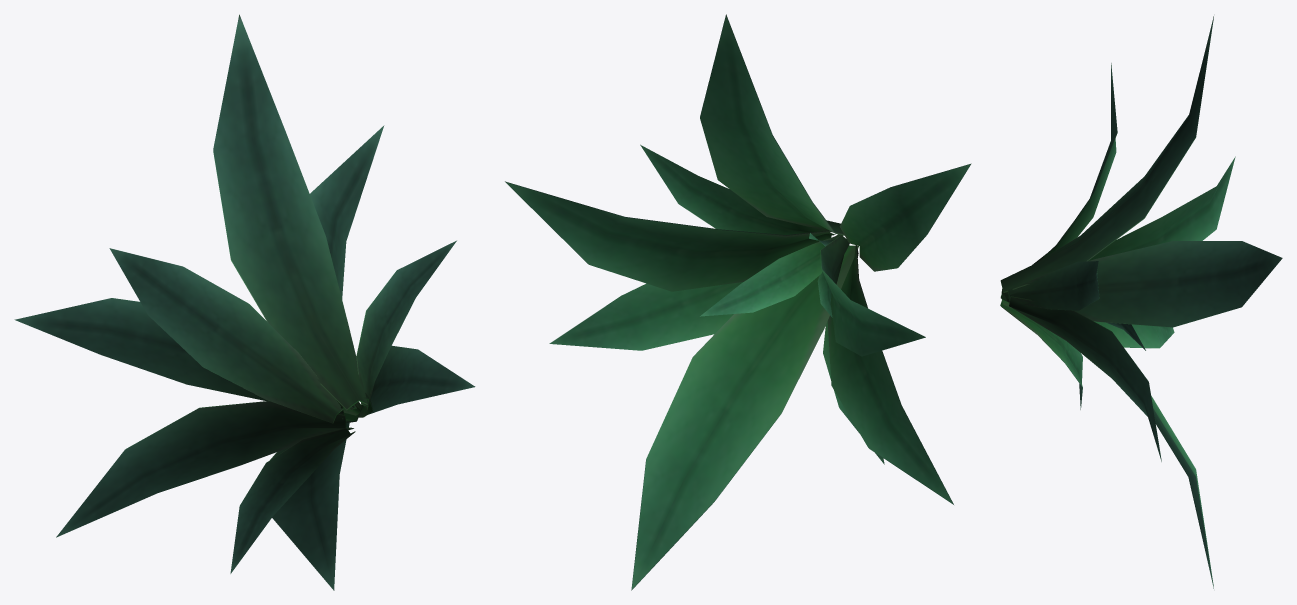
File: Grass_J.fbx
3 renders of one model, left to right at view 1: azimuth 30°, elevation 25°; view 2: azimuth 150°, elevation 25°; view 3: azimuth 270°, elevation 25°, orthographic. The views are drawn at different scales.
Parts seen in each view (by area): view 1: Grass_J; view 2: Grass_J; view 3: Grass_J.
Boxes of the visible parts, left/top/right/bottom form: Grass_J: left=14, top=14, right=475, bottom=590; Grass_J: left=505, top=14, right=971, bottom=590; Grass_J: left=1000, top=16, right=1282, bottom=588.
Size of the model in its own units: 56.44 by 77.02 by 36.84.
